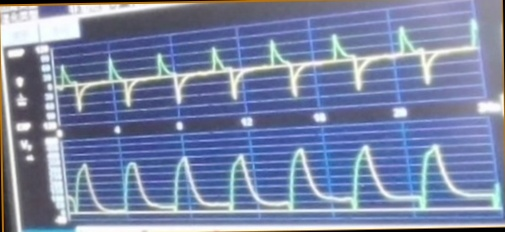Flow: (57, 26, 477, 112)
Leakage Volume: (67, 142, 498, 222)
